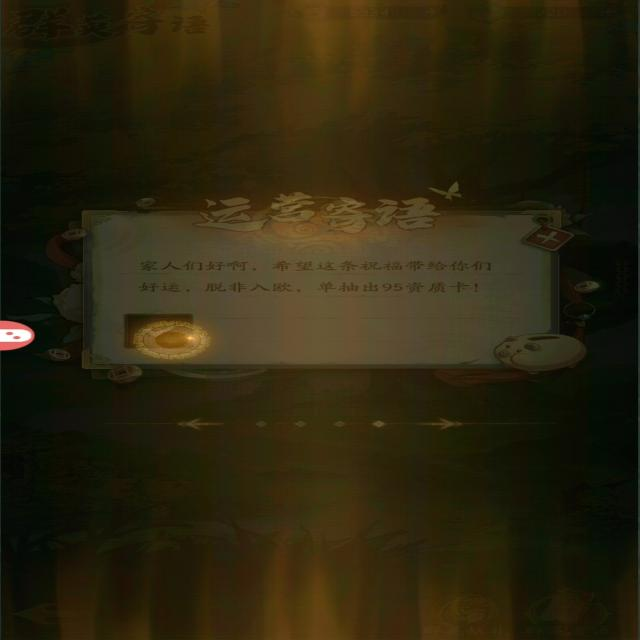operation-close: (516, 220, 563, 258)
operation-confirm-off: (101, 307, 223, 368)
operation-enter: (413, 404, 476, 436), (160, 416, 227, 439)
